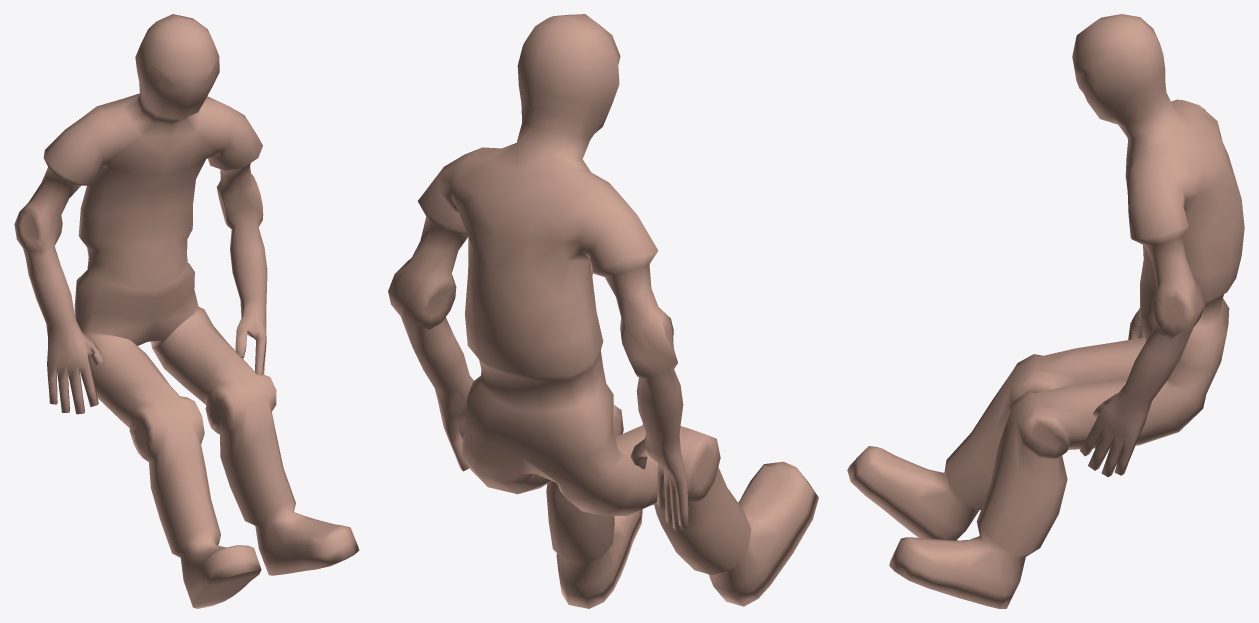
The model's file is sitting_dad.fbx.
The picture shows the model from 3 angles, left to right: view 1: azimuth 30°, elevation 25°; view 2: azimuth 150°, elevation 25°; view 3: azimuth 270°, elevation 25°; orthographic projection. The views are drawn at different scales.
Visible parts, largest first — view 1: RobotHumanoid:robot; view 2: RobotHumanoid:robot; view 3: RobotHumanoid:robot.
Part boxes in pixels (x1,y1,x2,y2): RobotHumanoid:robot: (14, 14, 359, 608); RobotHumanoid:robot: (388, 14, 818, 608); RobotHumanoid:robot: (847, 14, 1244, 608).
Size of the model in its own units: 5.59 by 11.91 by 7.57.
